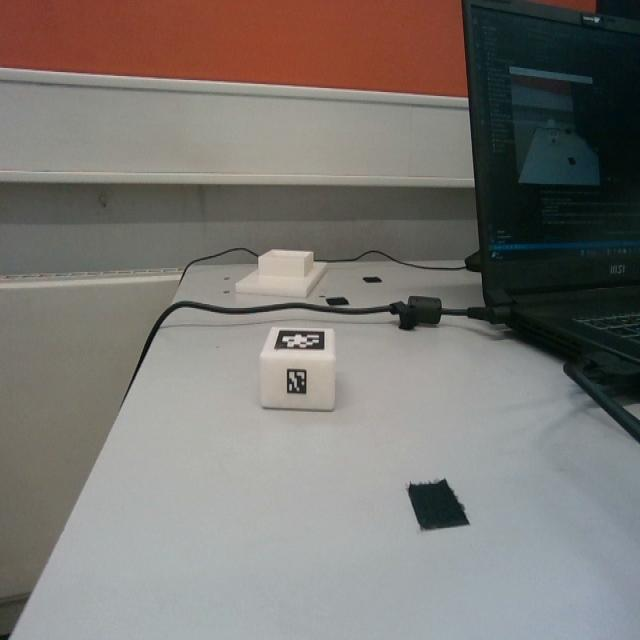Cube: (259, 324, 337, 412)
